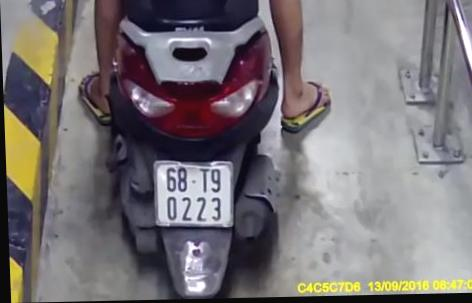License_Plate: (147, 154, 242, 238)
